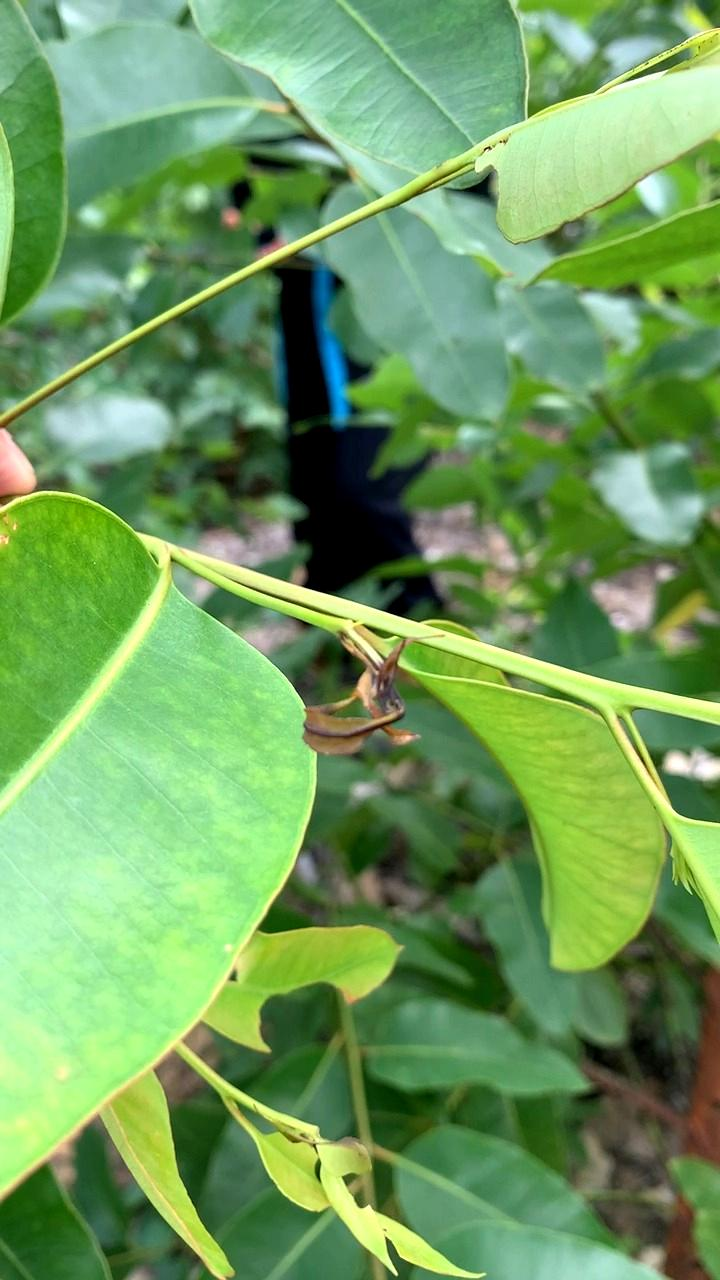Helopeltis-Withered Sprout: (306, 638, 423, 759)
